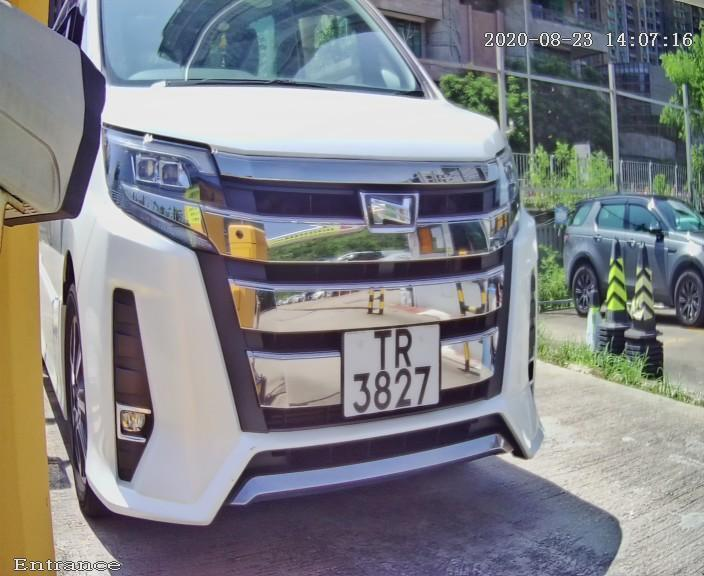License Plate: (327, 312, 453, 435)
